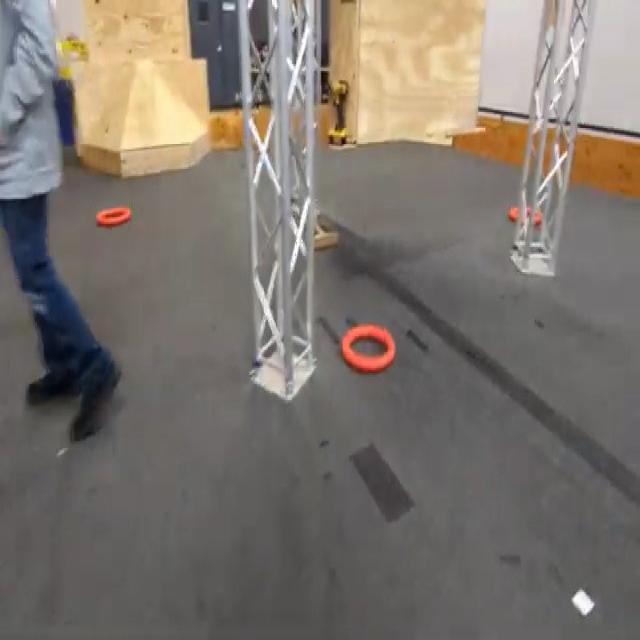note: (339, 325, 395, 372), (94, 206, 130, 229), (509, 205, 543, 226)
